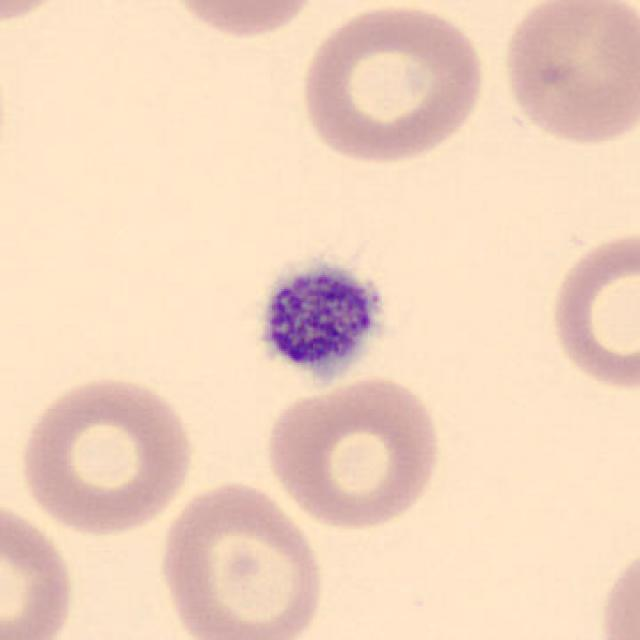Platelets: (249, 254, 387, 391)
RBC: (293, 0, 492, 167), (14, 370, 199, 538), (262, 372, 446, 534), (153, 476, 329, 640), (496, 0, 638, 150), (544, 224, 640, 395), (0, 495, 82, 640), (154, 0, 327, 42), (593, 537, 638, 640), (0, 0, 78, 30)
